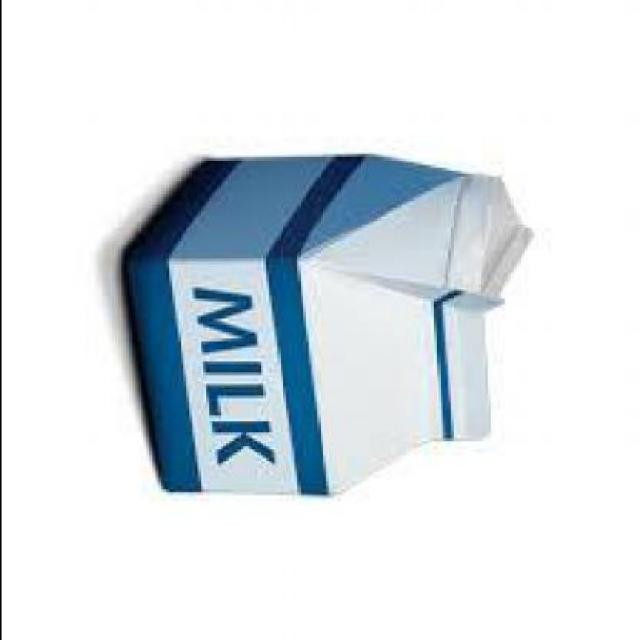non_white_jug: (102, 146, 542, 508)
